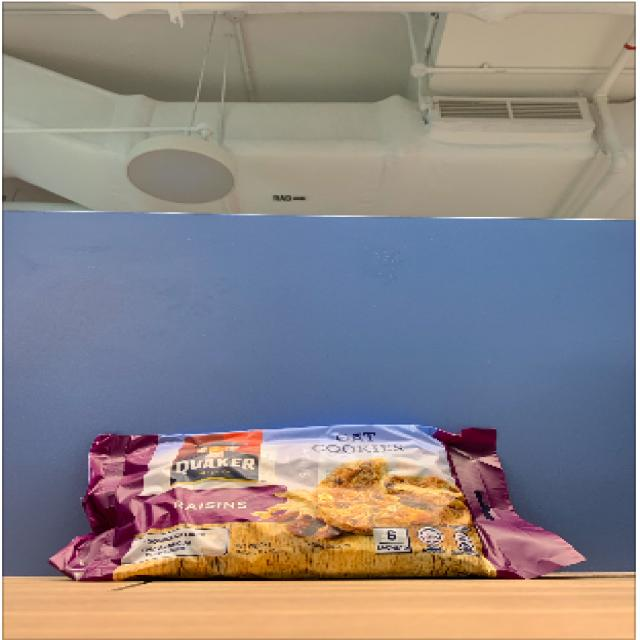object_name: (81, 440, 531, 572)
